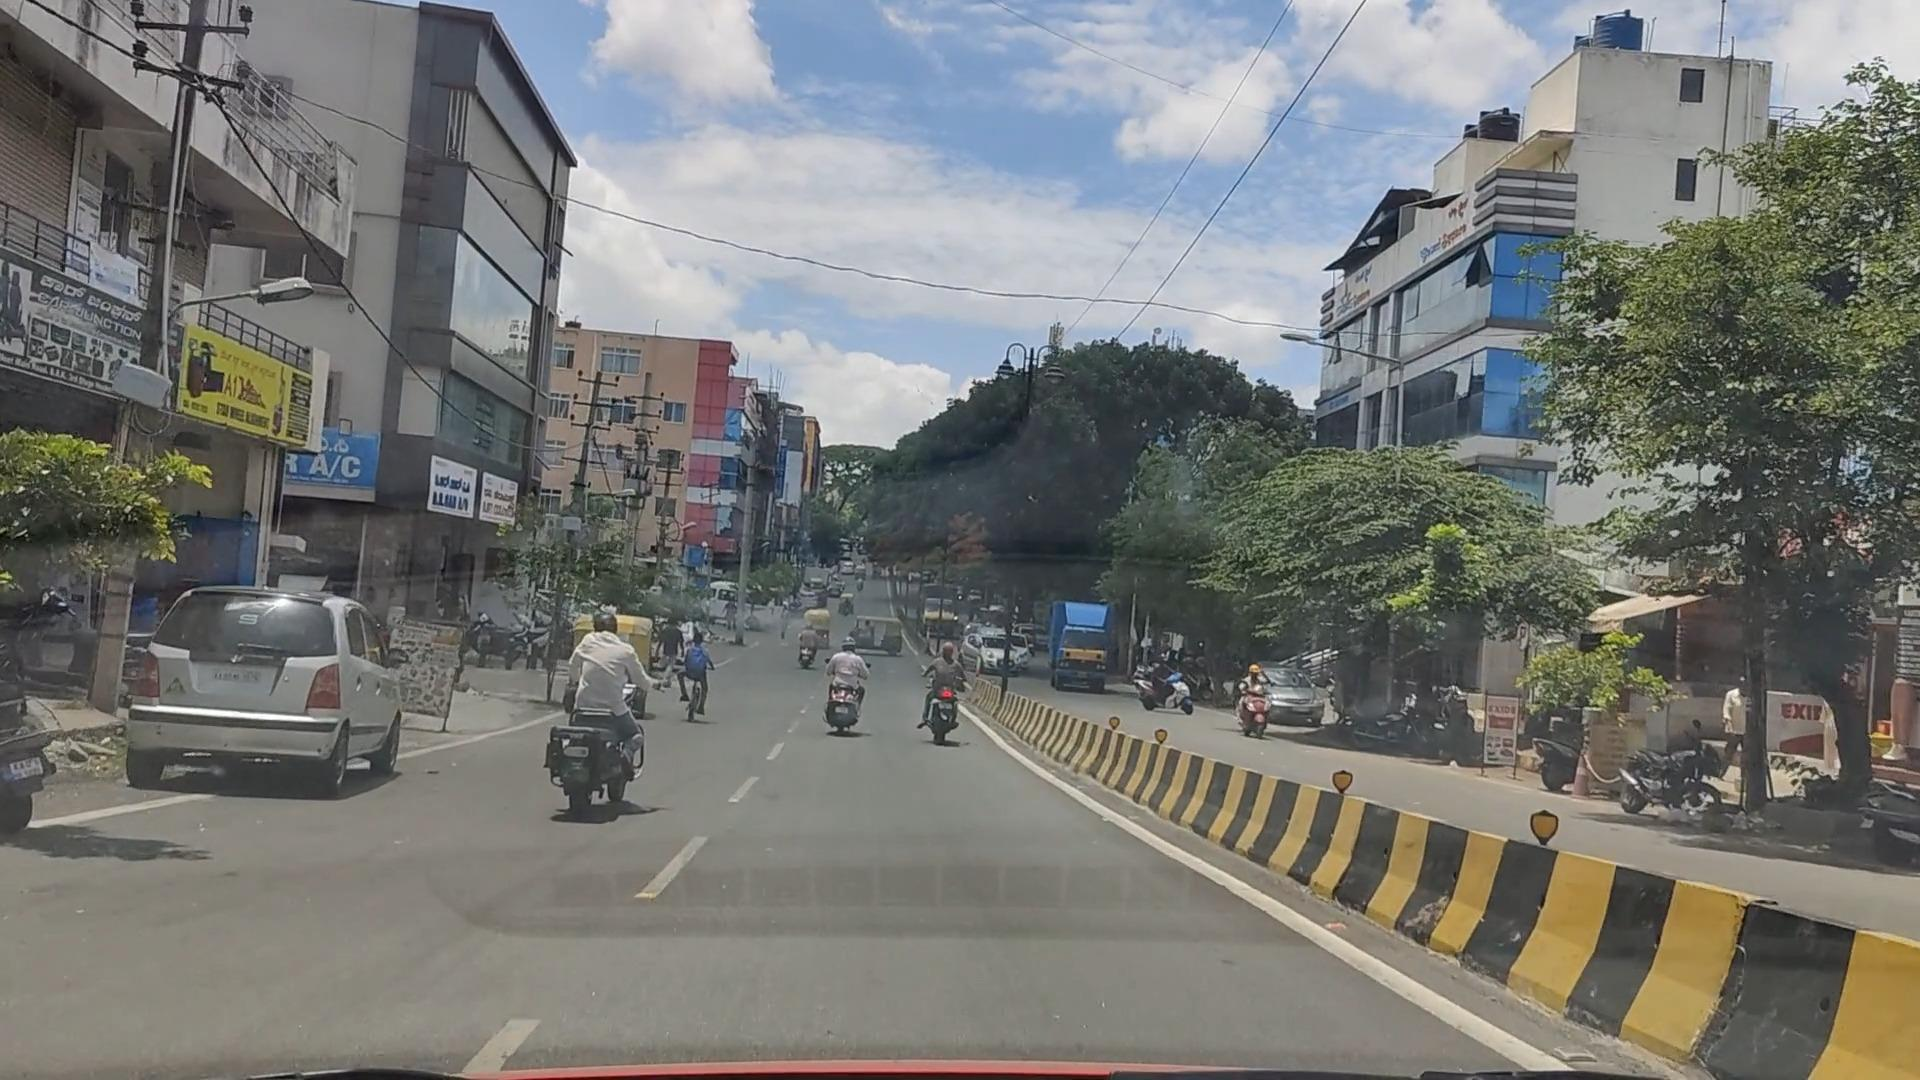LMV: (120, 566, 413, 820), (538, 597, 659, 847), (926, 616, 977, 758), (820, 630, 880, 740)
